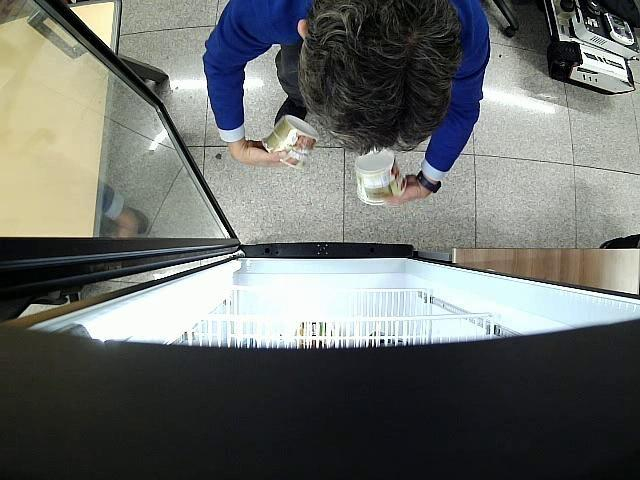03_chapagetti_L: (262, 114, 318, 170), (354, 149, 407, 205)
